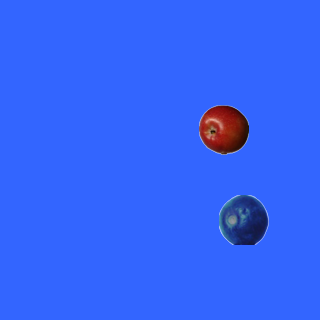Apple Braeburn: (198, 104, 248, 154)
Huckleberry: (218, 194, 268, 244)
